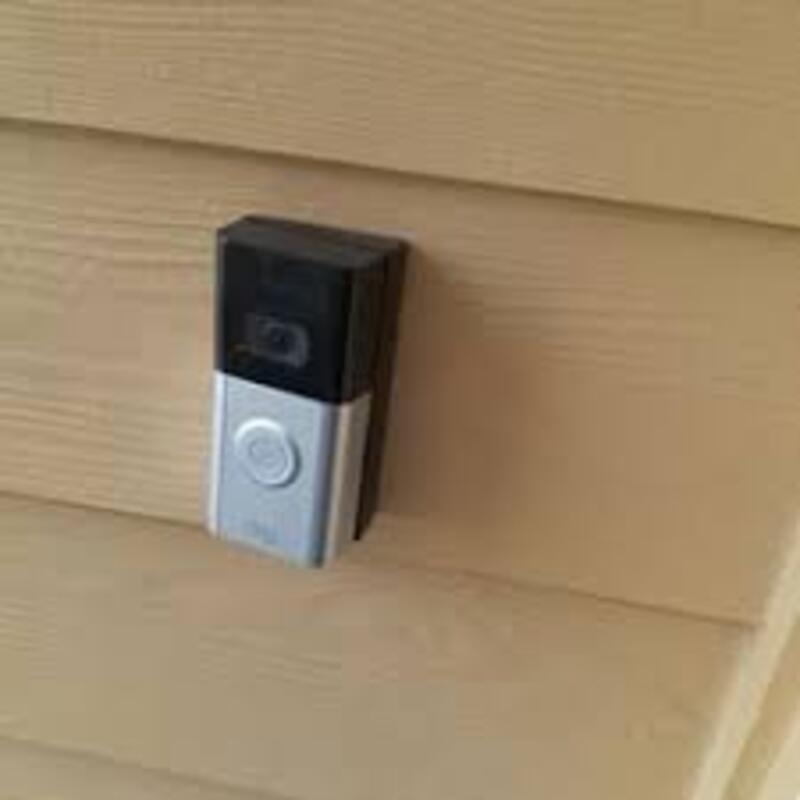doorbell: (203, 211, 401, 571)
